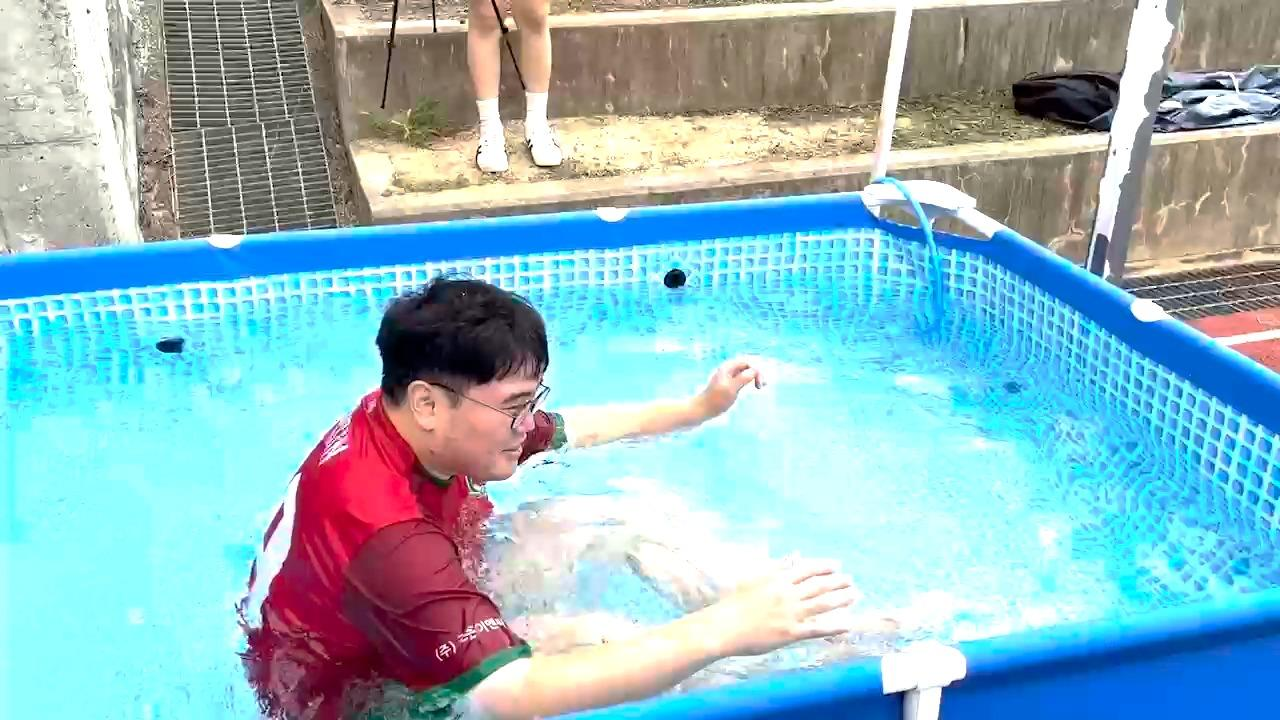Swimming: (140, 233, 860, 708)
